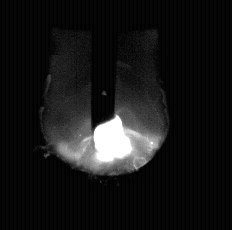arame: (91, 0, 116, 132)
poca: (41, 0, 170, 230)
